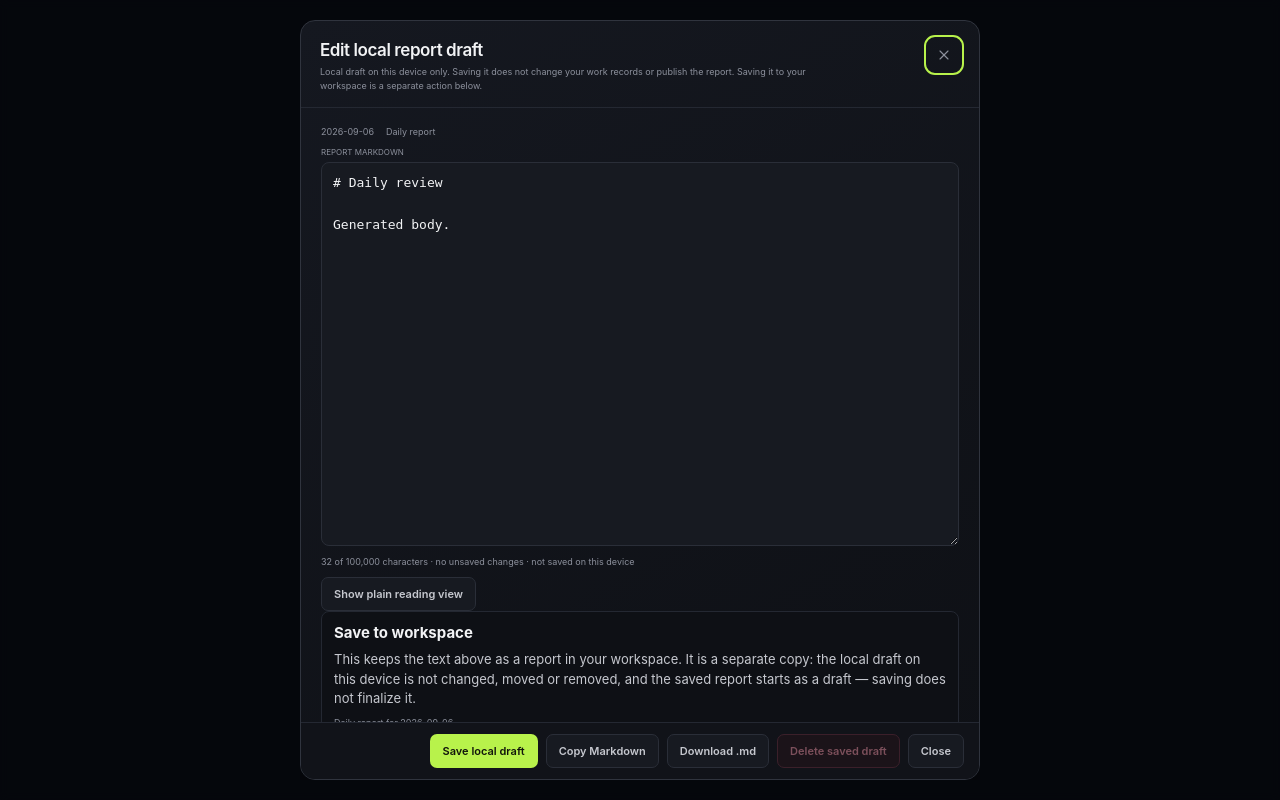
Test: asking the workspace to hold the report › the local save and the workspace save are separate actions, and neither is the other
The width and height of the screenshot is (1280, 800).
Step 1. Click the button "Save local draft" → (484, 751), box x1=430 y1=734 x2=538 y2=768
(page scrolled)
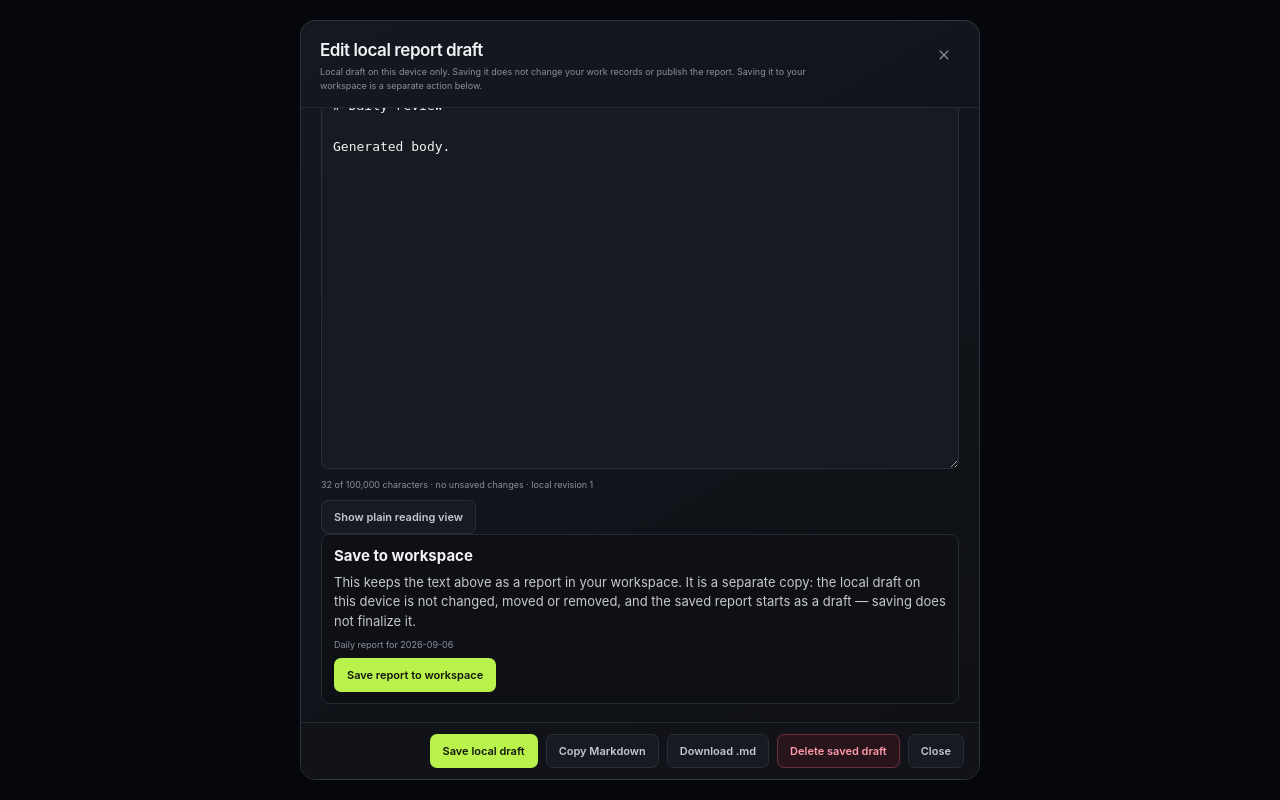
Step 2. Click the button "Save report to workspace" → (415, 675), box x1=334 y1=658 x2=496 y2=692
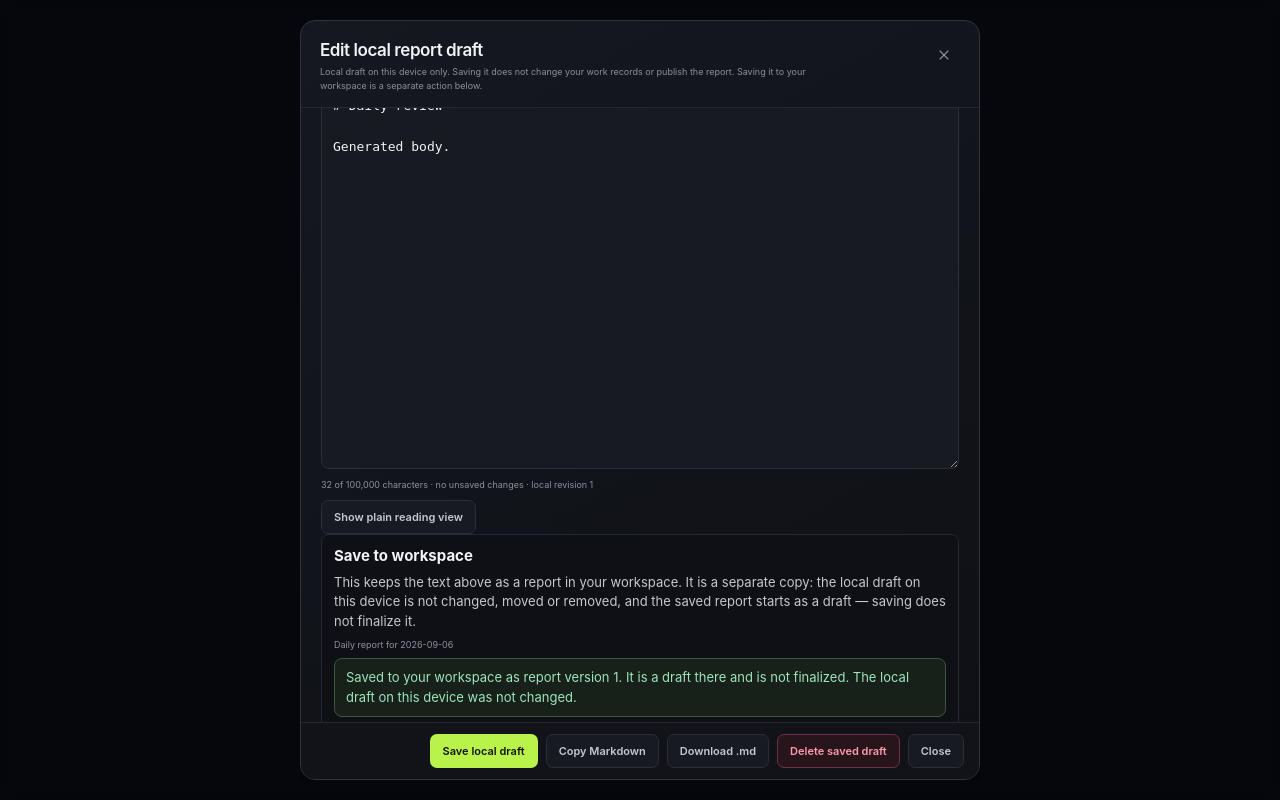
Check: the text "local revision 1" is shown, box x1=524 y1=479 x2=593 y2=490
Check: the text "Saved to your workspace as report version 1" is shown, box x1=346 y1=669 x2=909 y2=705
